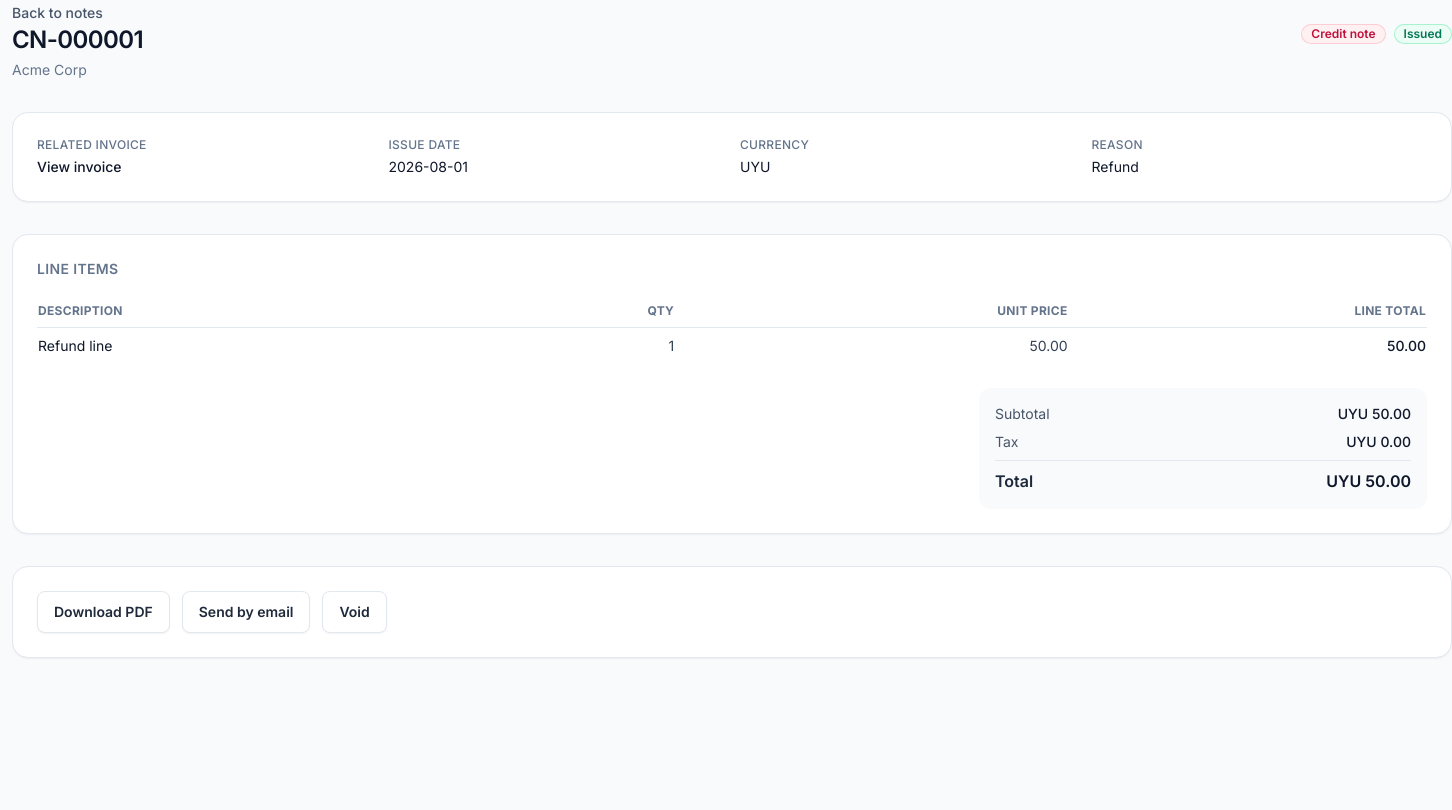
note detail page › shows a specific error when the customer has no email on file
Expected: the heading "CN-000001" is shown, [12,24,143,56]
Click the button "Send by email" at (246, 612), box [182,591,310,633]
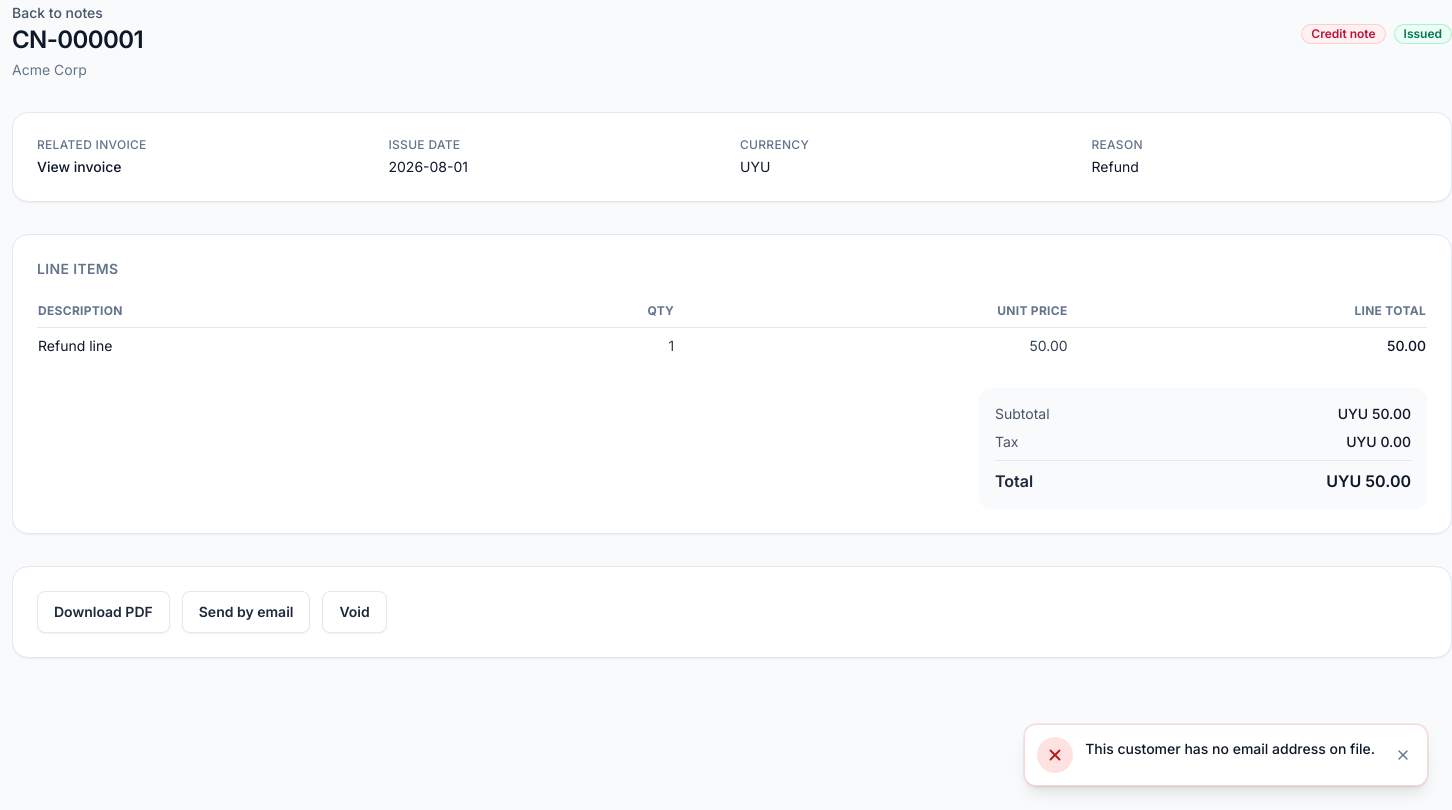
Expected: the text "This customer has no email address on file." is shown, [1085,739,1375,758]
